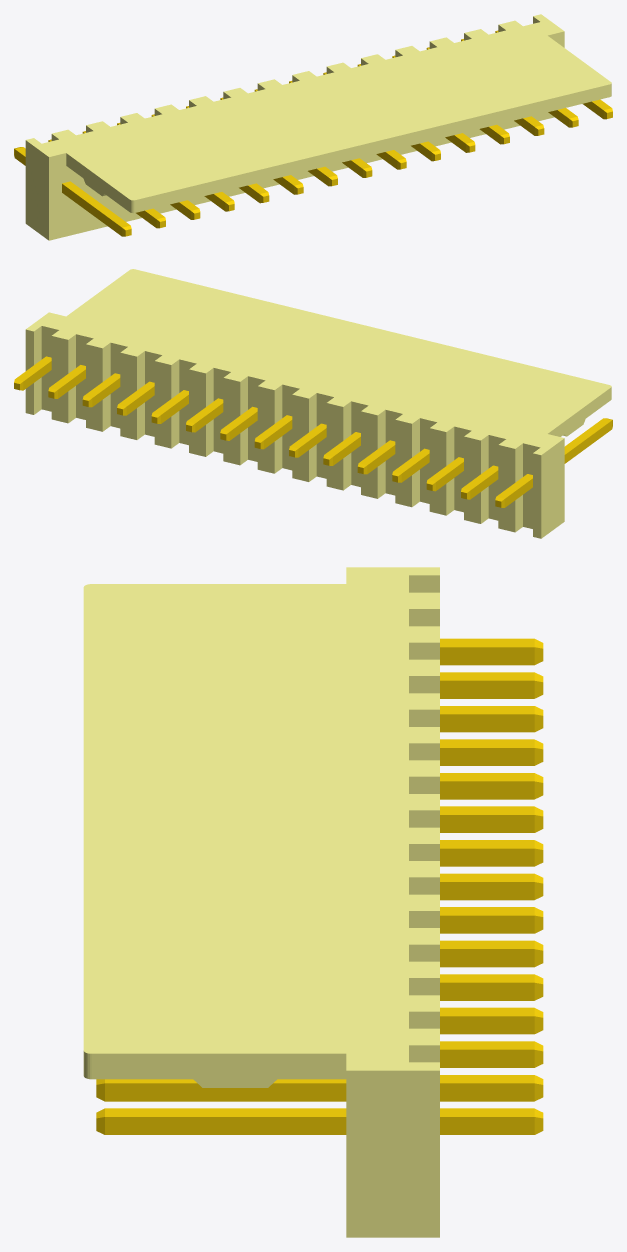
File: DS1070-15 (WF-15 CONNFLY).obj
3 renders of one model, top to bottom at view 1: azimuth 30°, elevation 25°; view 2: azimuth 150°, elevation 25°; view 3: azimuth 270°, elevation 25°, orthographic. The views are drawn at different scales.
Visible parts, largest first — view 1: DS1070-15_(WF-15_CONNFLY); view 2: DS1070-15_(WF-15_CONNFLY); view 3: DS1070-15_(WF-15_CONNFLY).
Boxes of the visible parts, <box> form: DS1070-15_(WF-15_CONNFLY): <box>14,14,612,240</box>; DS1070-15_(WF-15_CONNFLY): <box>14,269,612,538</box>; DS1070-15_(WF-15_CONNFLY): <box>83,567,543,1237</box>.
Bounding box in the file's own units: 0.0135 × 0.0021 × 0.00522.
